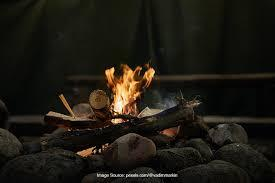Fire: (101, 64, 155, 123)
